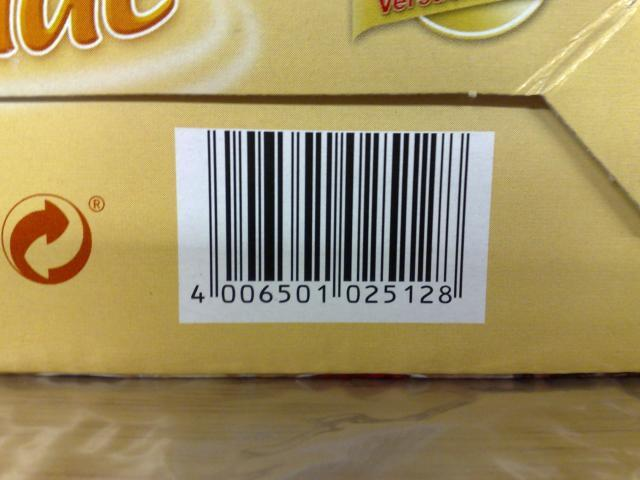Barcode: (175, 127, 495, 311)
